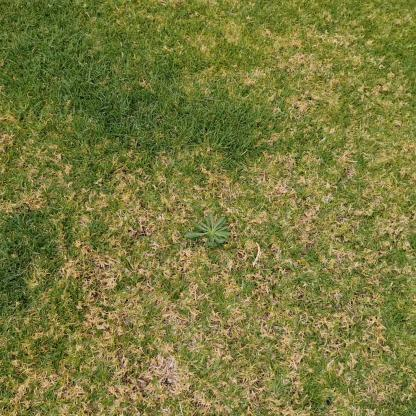Weeds: (184, 215, 232, 248)
